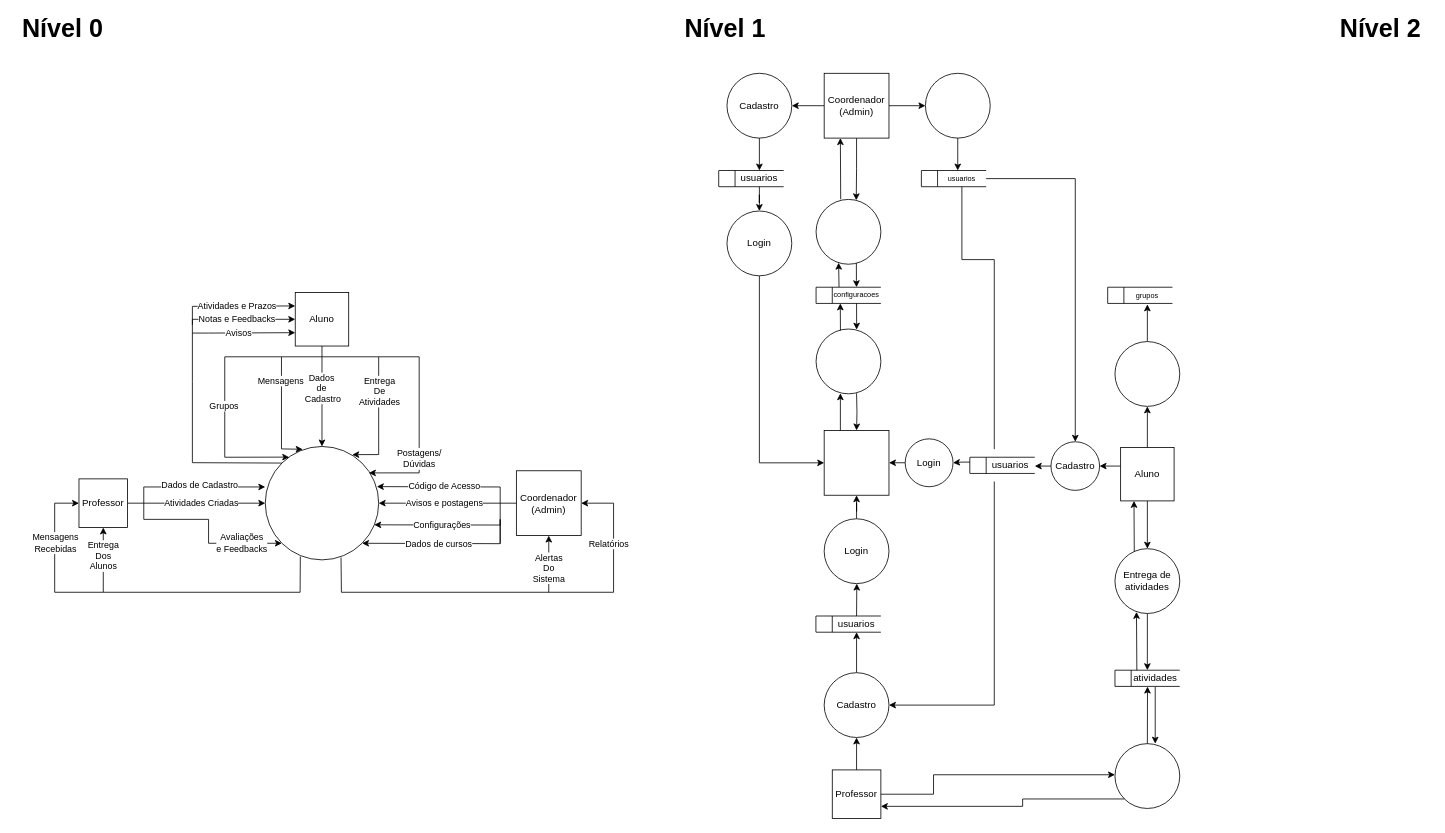
This 1445x833 diagram has some shape labels left out. Here are the shapes that lost their labels. From the top down, the centre of each, then its label:
At point (957, 105): "Gerar código".
At point (848, 231): "Gerenciar".
At point (848, 361): "Devolver alertas e relatórios".
At point (1147, 373): "Criação de Grupos".
At point (856, 462): "Sistema".
At point (321, 503): "Sistema do TCChat".
At point (1147, 775): "Criação de Atividades".
